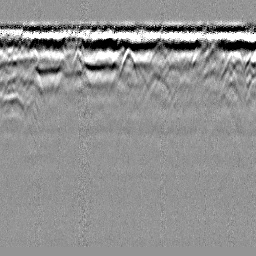cavity: (118, 46, 135, 79)
